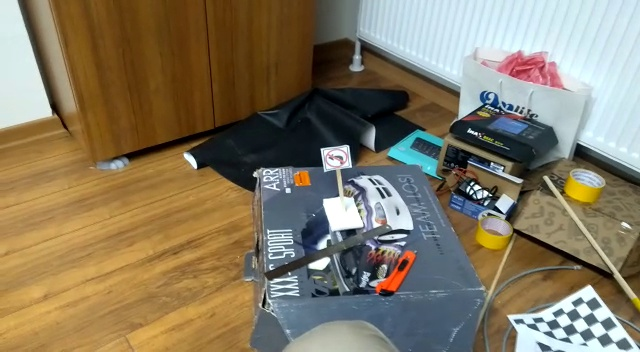sola_donulmez: (323, 146, 350, 171)
